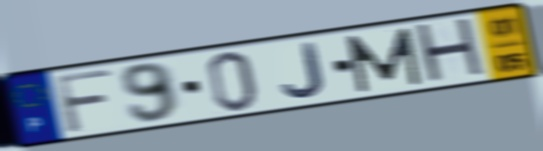0: (204, 48, 261, 114)
9: (118, 60, 185, 125)
F: (52, 67, 116, 136)
H: (411, 15, 490, 87)
J: (279, 40, 329, 100)
M: (342, 25, 425, 95)
